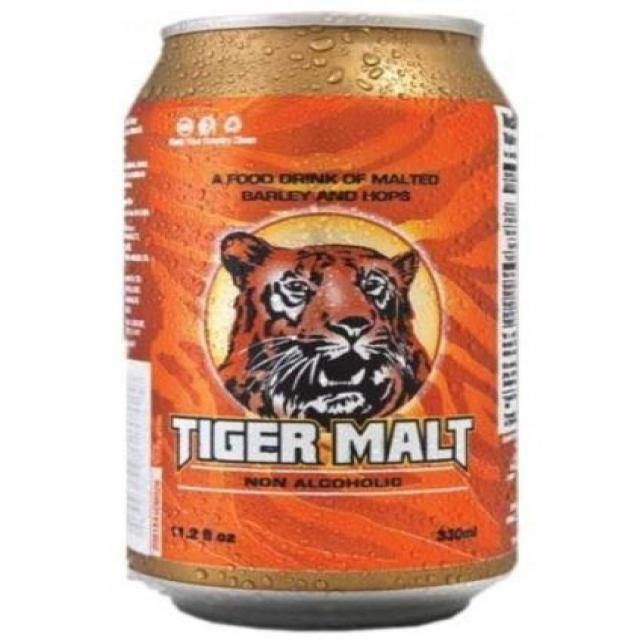tin can: (115, 2, 528, 634)
